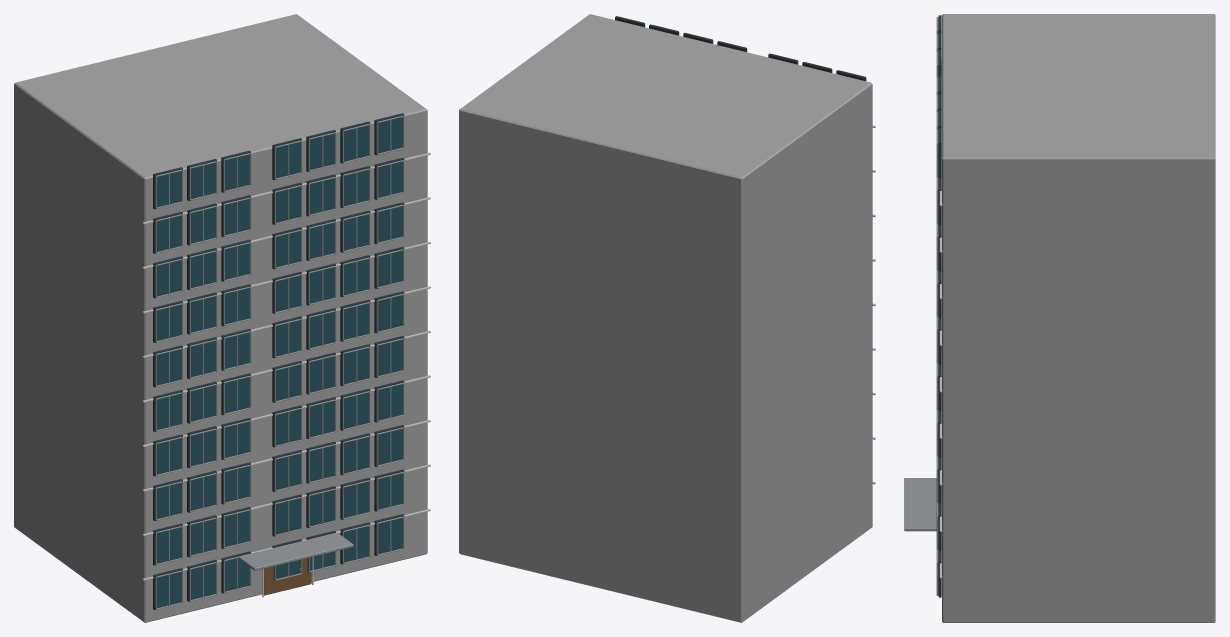
Rendered from Downtown_Office.glb.
3 views of the same model, side by side, from view 1: azimuth 30°, elevation 25°; view 2: azimuth 150°, elevation 25°; view 3: azimuth 270°, elevation 25° (orthographic). The views are drawn at different scales.
Parts seen in each view (by area): view 1: Concrete_Weathered, Glass, Metal, Metal_Dark, Trim, Wood; view 2: Concrete_Weathered, Metal_Dark; view 3: Concrete_Weathered, Metal, Metal_Dark, Trim, Glass.
Boxes of the visible parts, <box> form: Concrete_Weathered: <box>14,14,427,622</box>; Glass: <box>157,117,402,608</box>; Metal: <box>155,115,404,609</box>; Metal_Dark: <box>153,113,404,609</box>; Trim: <box>142,152,430,597</box>; Wood: <box>264,558,311,595</box>; Concrete_Weathered: <box>459,14,872,622</box>; Metal_Dark: <box>615,16,866,81</box>; Concrete_Weathered: <box>942,14,1215,622</box>; Metal: <box>904,16,938,595</box>; Metal_Dark: <box>938,15,941,597</box>; Trim: <box>939,58,942,578</box>; Glass: <box>938,17,938,595</box>.
Size of the model in its own units: 20.25 by 30.22 by 18.2.
